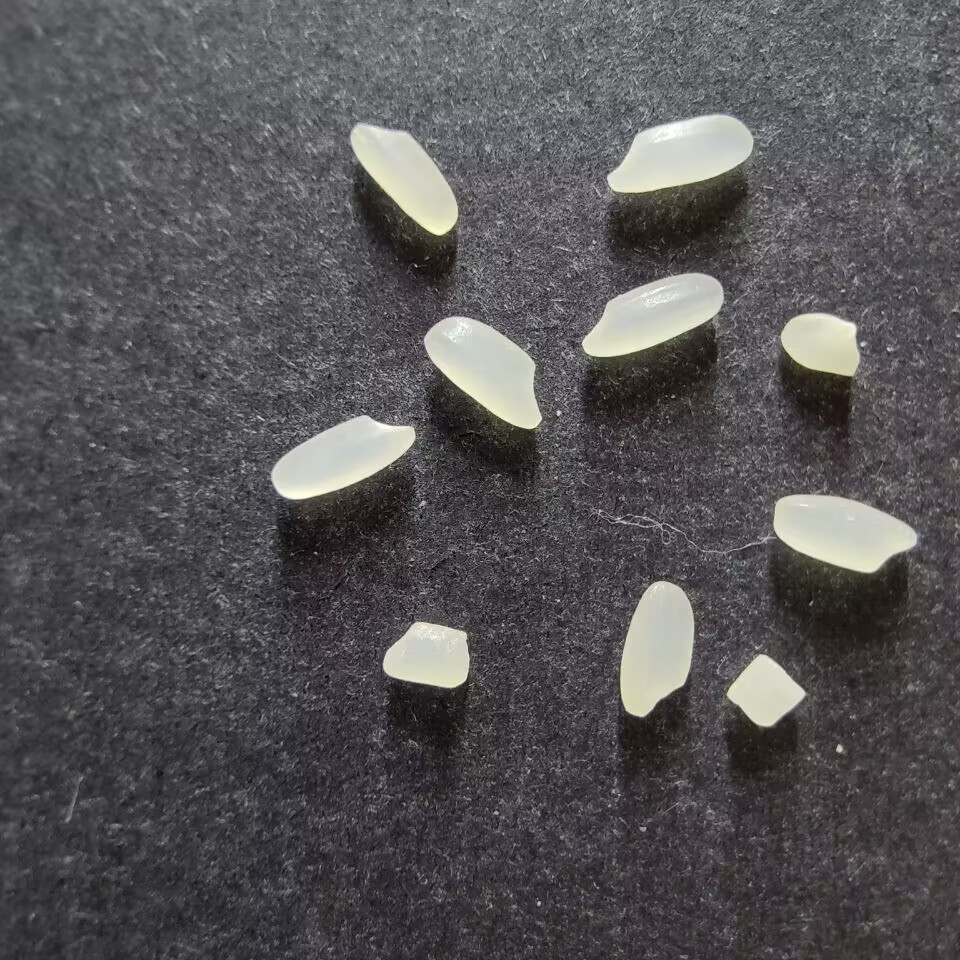broken: (381, 620, 470, 688), (725, 654, 806, 727), (779, 313, 860, 376)
rice: (422, 316, 543, 429), (270, 414, 416, 500), (349, 123, 458, 235), (582, 272, 724, 357), (606, 114, 753, 193), (772, 494, 917, 573), (618, 580, 693, 717)
